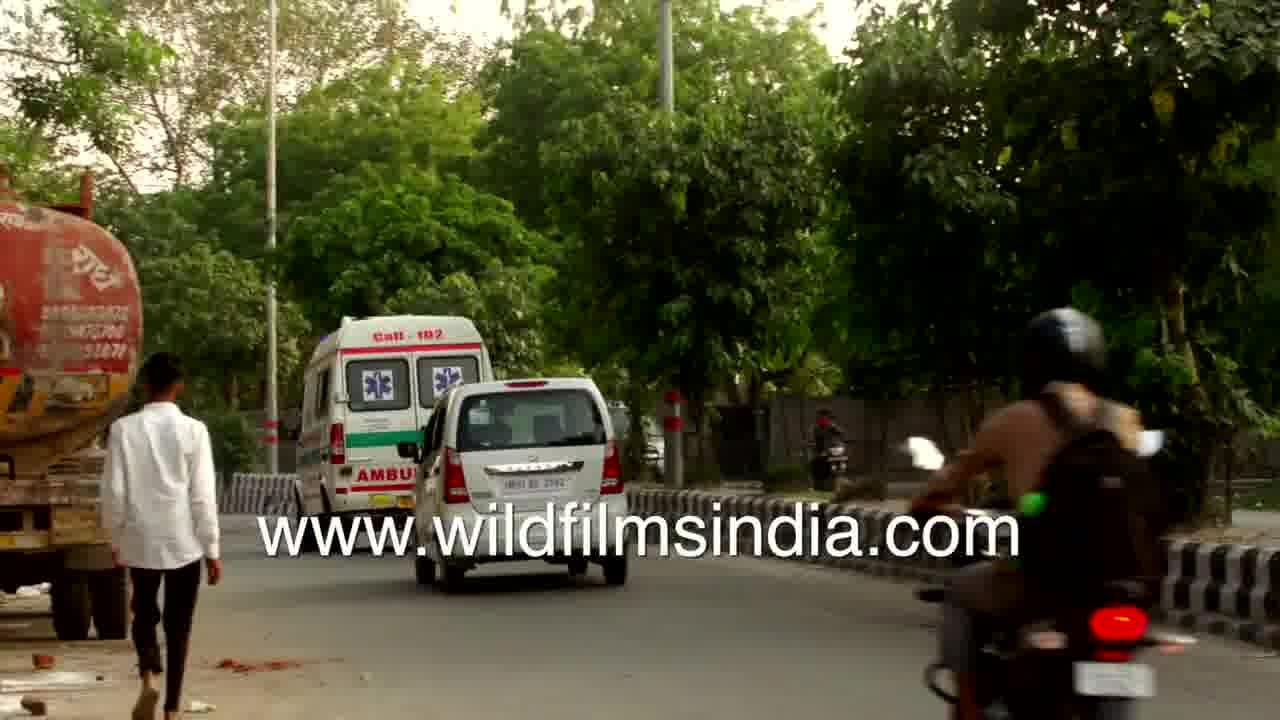AMBULANCE: (266, 289, 426, 551)
